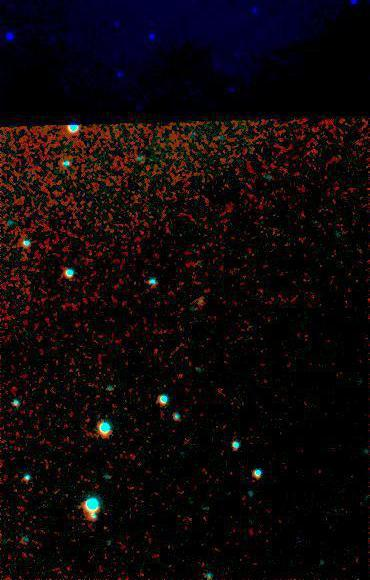star: (87, 472, 117, 502)
